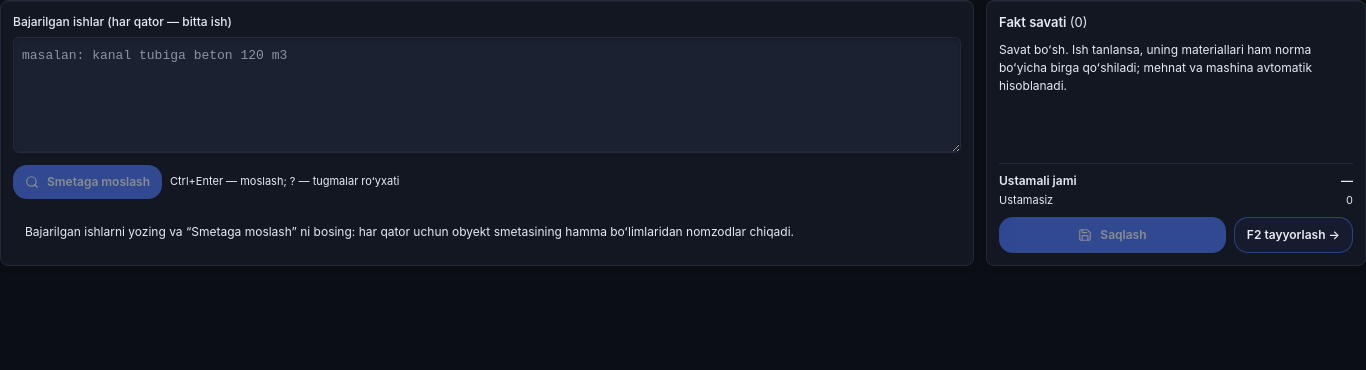
Scenario: XotiradanFakt › klaviatura: Enter nomzodni savatga qo‘shadi; hajm qoldiqdan oshsa bloklanmaydi, faqat belgi
This screenshot has width=1366, height=370.
Type "geomembrana 9000 m2" into the text box labelled "Bajarilgan ishlar (har qator — bitta ish)" at (487, 95), box [13,37,961,152]
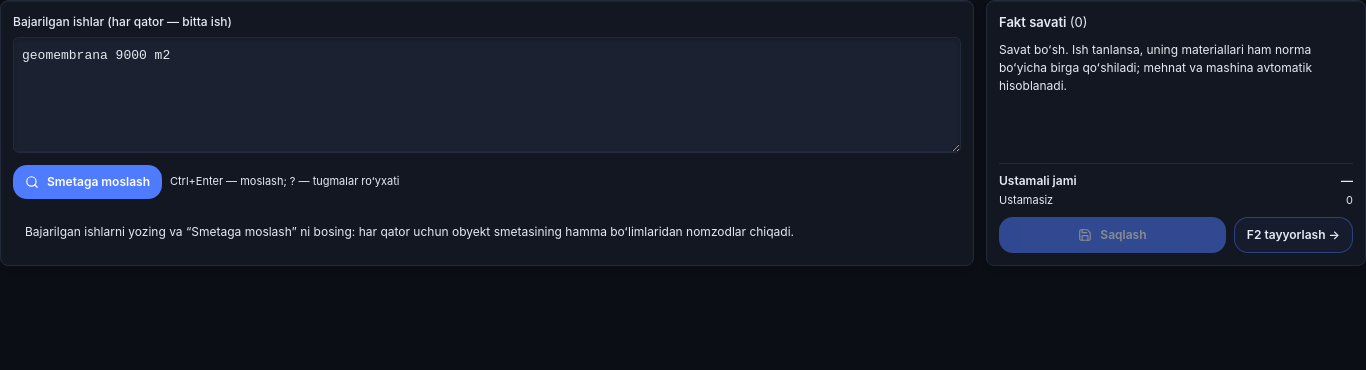
Press Enter in the text box labelled "Bajarilgan ishlar (har qator — bitta ish)", box [13,37,961,152]
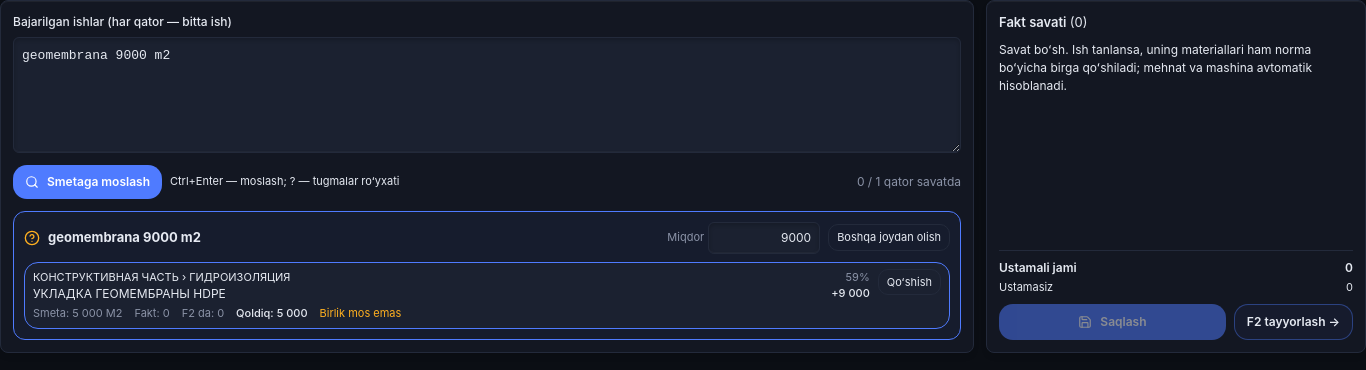
Press Enter
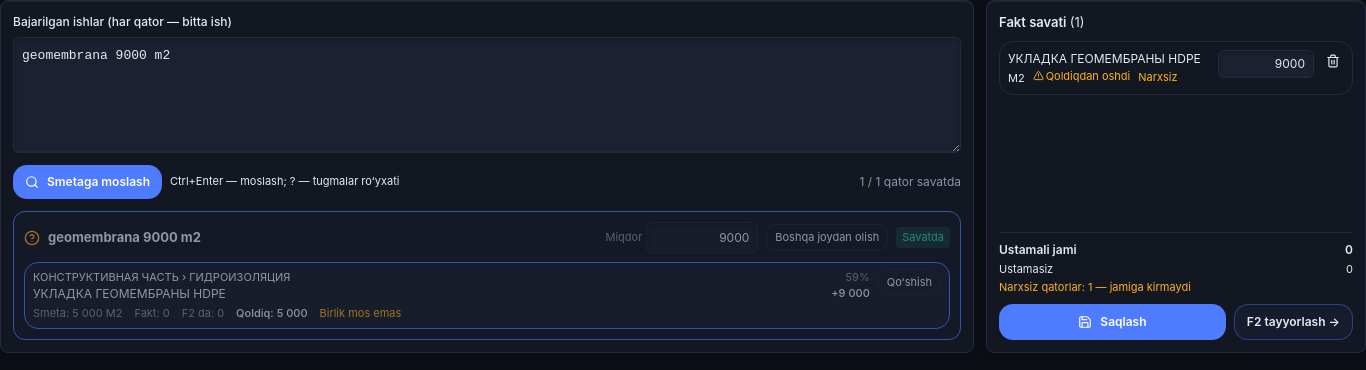
Result: the field named "Hajm" holds "9000" at [1218,50,1314,78]
Result: the element "Fakt savati" shows "Qoldiqdan oshdi" at [1046,68,1130,82]
